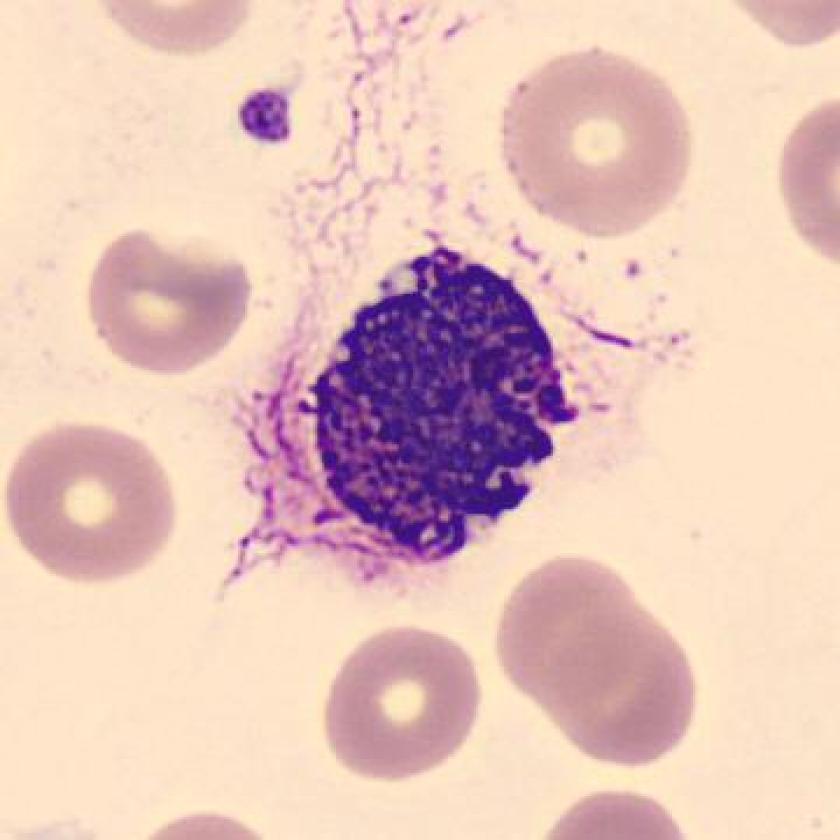basophil: (274, 226, 582, 571)
